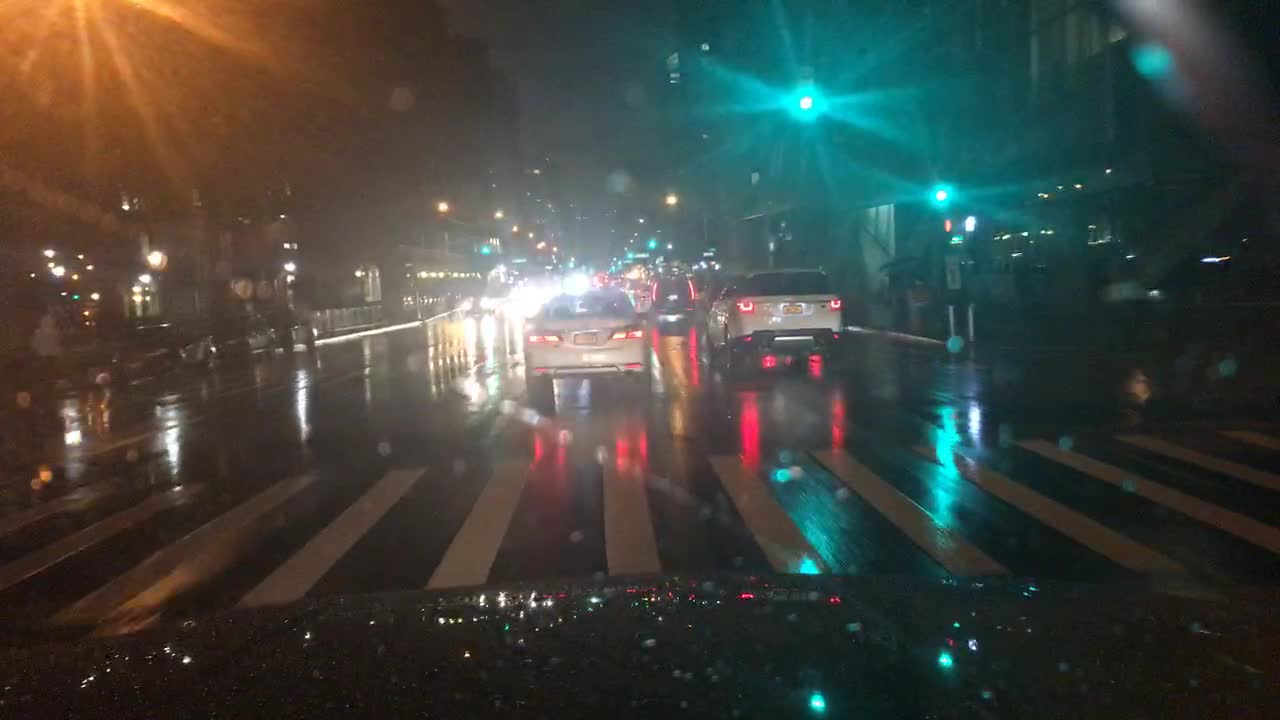car: (702, 266, 847, 373), (521, 287, 654, 396), (106, 324, 221, 381), (209, 314, 270, 358), (265, 305, 317, 353), (649, 273, 695, 320), (455, 292, 501, 310)
traffic light: (795, 71, 815, 111), (933, 169, 948, 204), (941, 214, 962, 233), (962, 212, 978, 234), (477, 233, 491, 258), (646, 229, 658, 248), (624, 241, 636, 260)
traffic sign: (698, 248, 714, 260), (634, 248, 648, 260)
